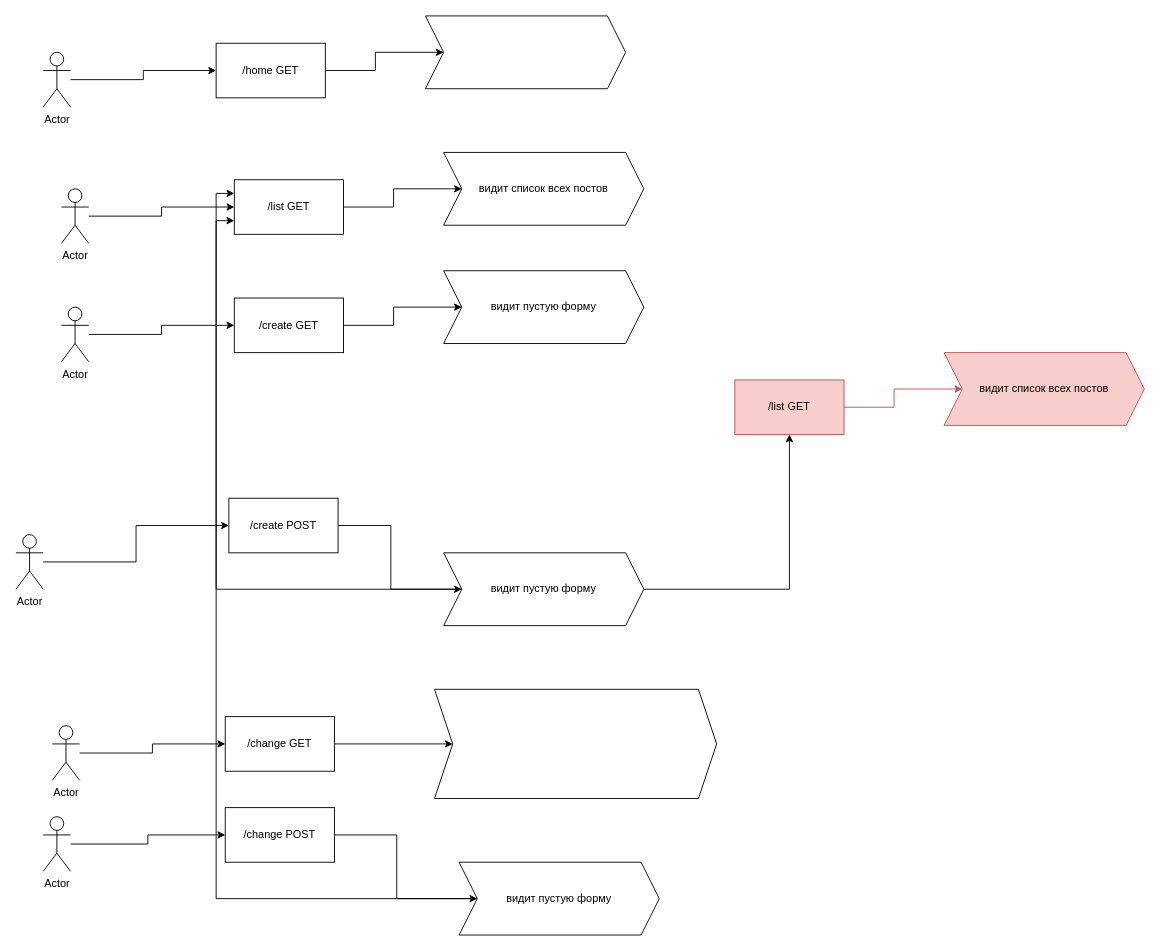
The diagram is 1160 pixels wide and 951 high, and some of its shapes have lost their labels. Here are the shapes that lost their labels. From the top down, the centre of each, then its label:
pixel 525 52: видит главную страницу (home.html)
pixel 575 743: видит заполненую форму старыми данными
